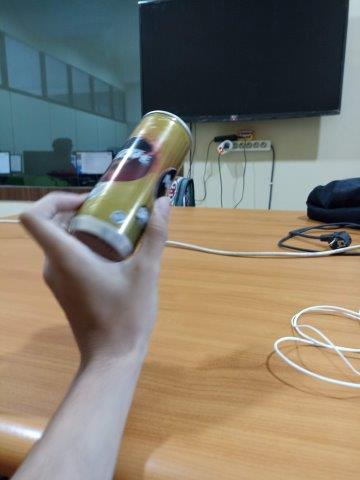kaleng: (68, 109, 194, 260)
